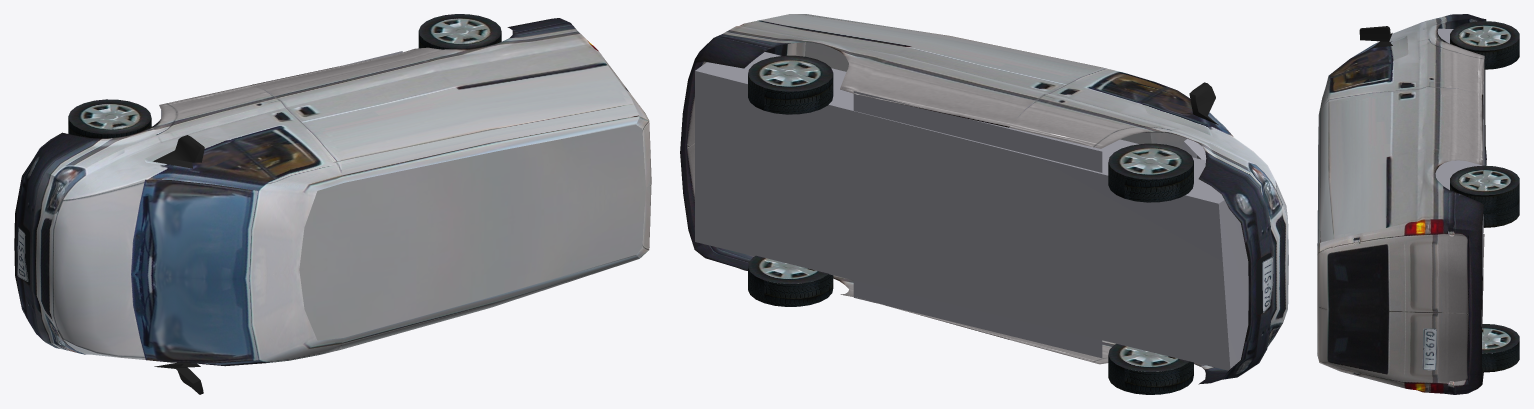
The model's file is Car_09.obj.
3 views of the same model, side by side, from view 1: azimuth 30°, elevation 25°; view 2: azimuth 150°, elevation 25°; view 3: azimuth 270°, elevation 25° (orthographic). The views are drawn at different scales.
Parts seen in each view (by area): view 1: _9body, _9tyres, _9tyresurf; view 2: _9fill, _9body, _9tyresurf, _9tyres, _9plates; view 3: _9body, _9tyres, _9tyresurf, _9fill, _9plates.
Part boxes in pixels (box(x1,y1,x2,y2)): _9body: box(14, 18, 651, 394); _9tyres: box(68, 14, 501, 134); _9tyresurf: box(68, 31, 501, 138); _9fill: box(695, 52, 1248, 370); _9body: box(680, 14, 1288, 384); _9tyresurf: box(748, 74, 1193, 394); _9tyres: box(748, 55, 1193, 371); _9plates: box(1262, 256, 1273, 312); _9body: box(1317, 14, 1486, 394); _9tyres: box(1450, 21, 1519, 353); _9tyresurf: box(1450, 38, 1519, 372); _9fill: box(1435, 28, 1484, 326); _9plates: box(1422, 328, 1436, 370).
Size of the model in its own units: 4.76 by 2.02 by 1.76.
